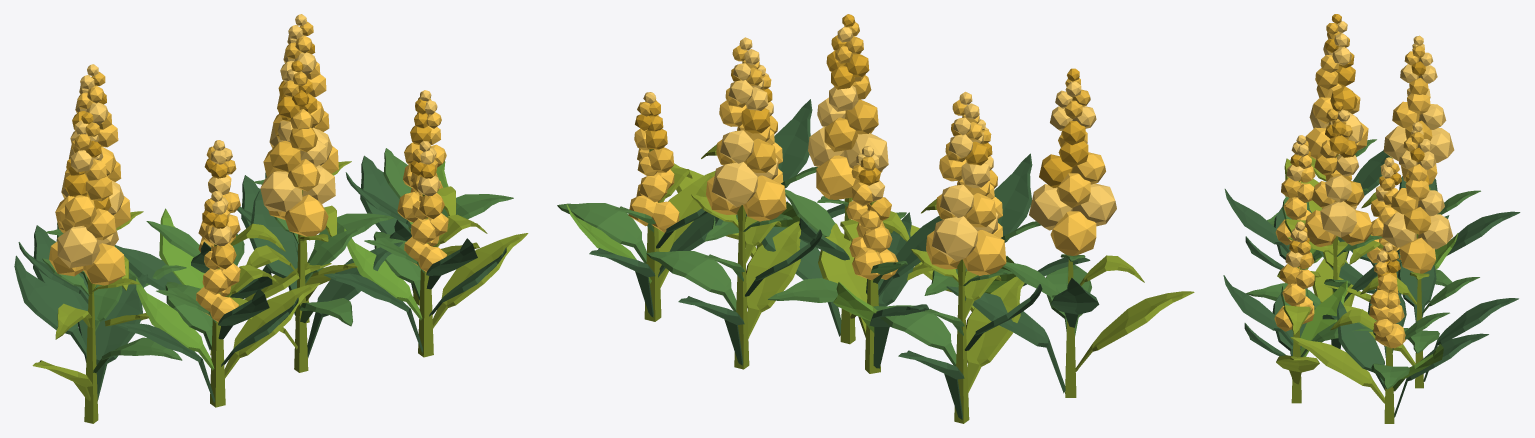
Rendered from meadow-flower.glb.
3 views of the same model, side by side, from view 1: azimuth 30°, elevation 25°; view 2: azimuth 150°, elevation 25°; view 3: azimuth 270°, elevation 25° (orthographic). The views are drawn at different scales.
Visible parts, largest first — view 1: EA_M_Env_Flower_Cluster_01a; view 2: EA_M_Env_Flower_Cluster_01a; view 3: EA_M_Env_Flower_Cluster_01a.
Part boxes in pixels (x1=…): EA_M_Env_Flower_Cluster_01a: x1=14, y1=14, x2=528, y2=423; EA_M_Env_Flower_Cluster_01a: x1=557, y1=14, x2=1194, y2=423; EA_M_Env_Flower_Cluster_01a: x1=1223, y1=14, x2=1520, y2=423.
Bounding box in the file's own units: 2.23 × 1.21 × 1.24.
1 material, 1 textured.
